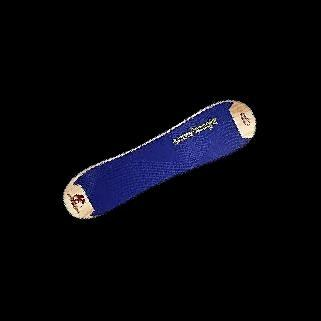Snowboard: (62, 98, 256, 220)
